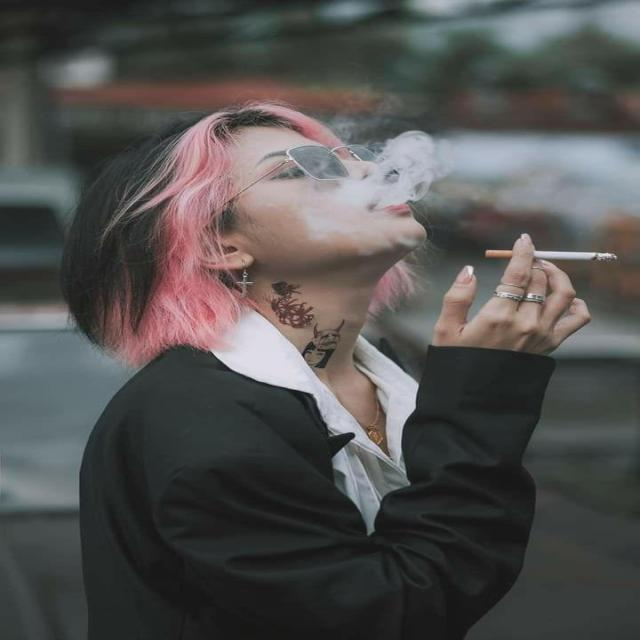cigarette: (479, 228, 624, 274)
